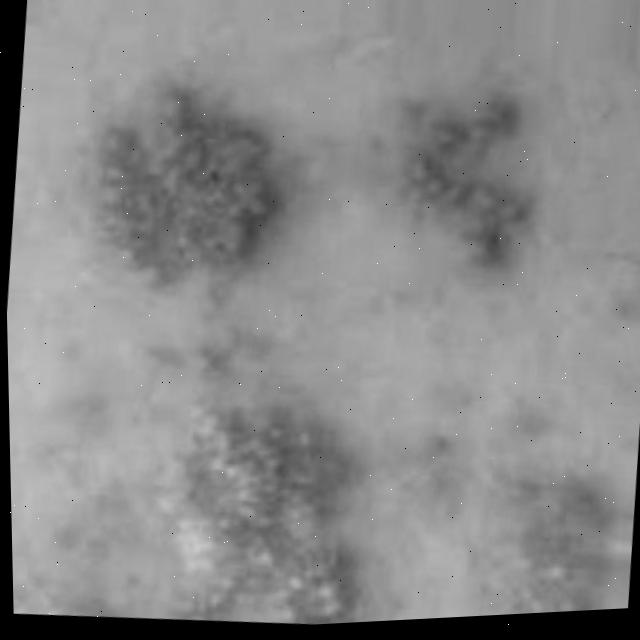Shingles: (1, 31, 640, 640)
